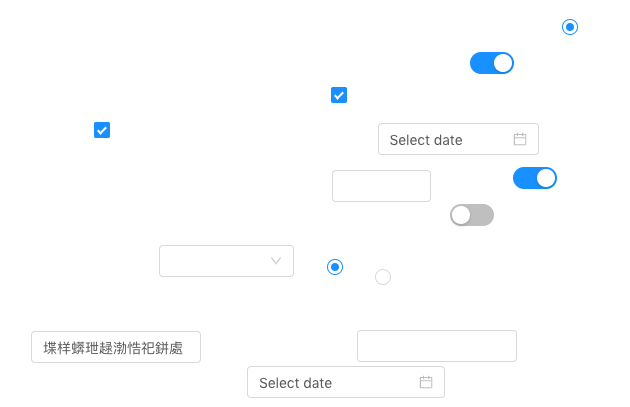Checkbox: (331, 84, 347, 105), (94, 119, 110, 140)
DatePicker: (247, 366, 445, 398), (378, 123, 539, 155)
Input: (31, 331, 201, 363), (357, 330, 517, 362), (332, 170, 431, 202)
Radio: (562, 16, 578, 36), (327, 256, 343, 276), (375, 266, 391, 286)
Select: (159, 245, 294, 277)
Switch: (470, 51, 514, 75), (450, 203, 494, 227), (513, 166, 557, 190)
